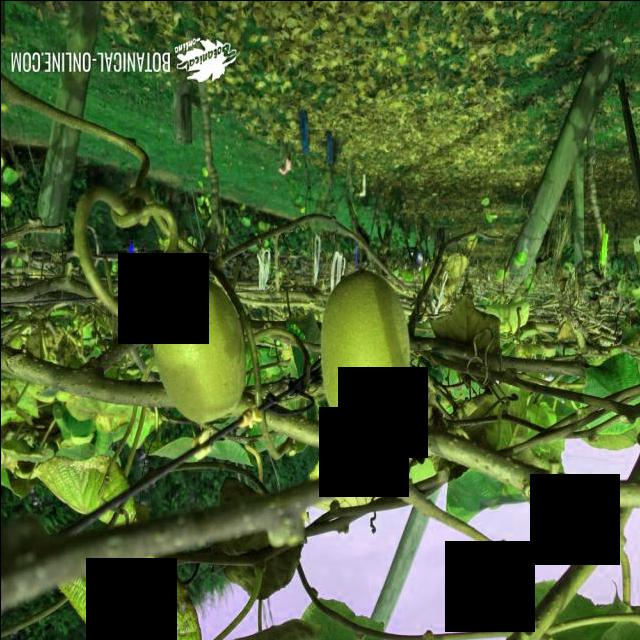kiwi: (320, 268, 412, 441), (154, 278, 250, 429)
